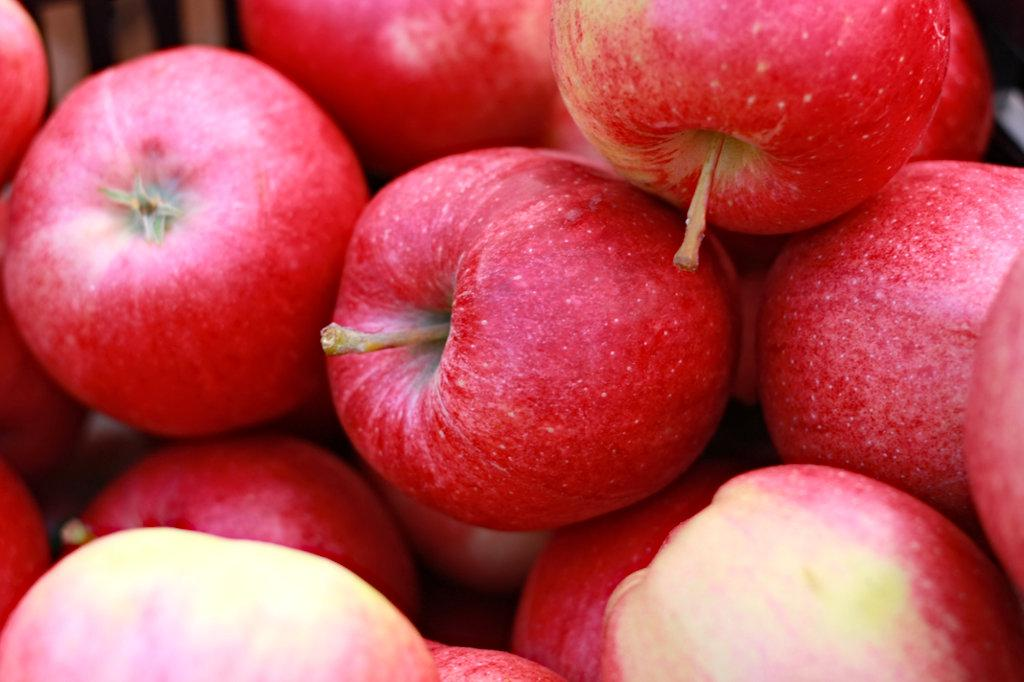Apple: (3, 3, 1022, 681), (316, 145, 741, 533), (1, 44, 366, 436)
